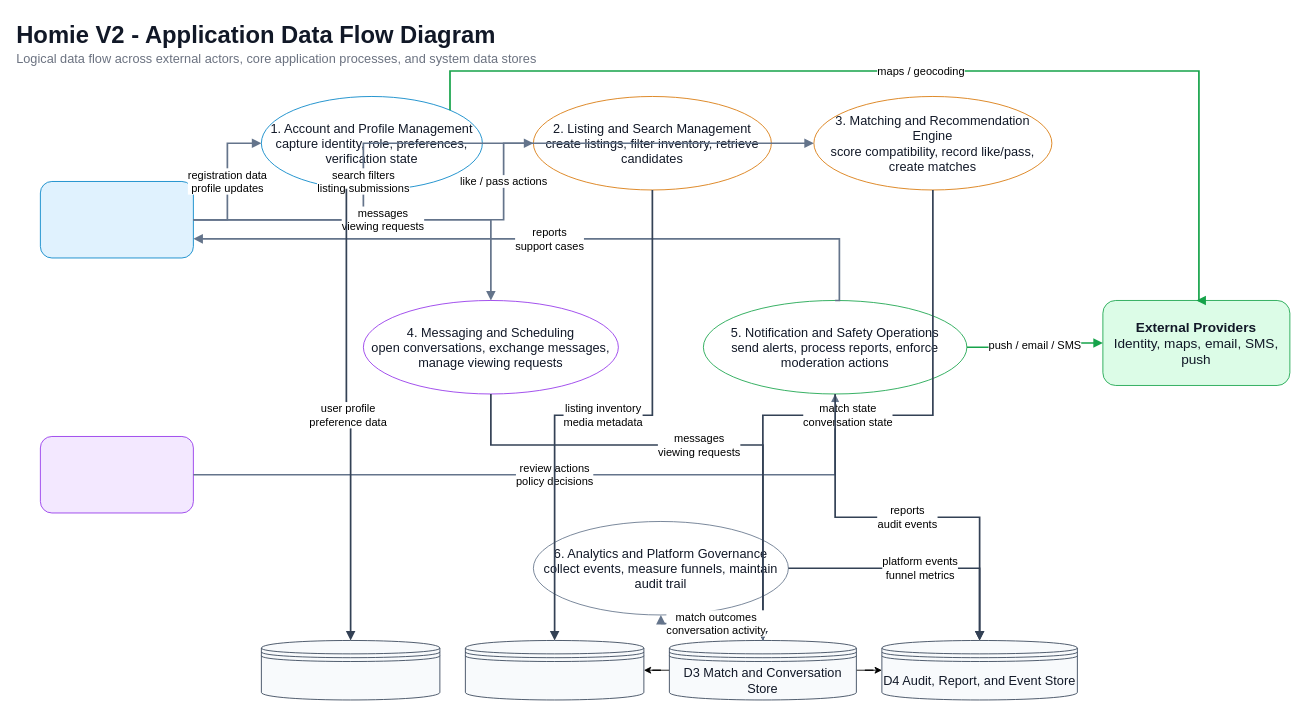
Image size: 1305x715. Some labels were removed from this diagram. The shapes that lost their labels are listed below. From the top down, each one's box as (x1, y1, x2, y2) in pixels, then its label:
(40, 181, 193, 258): Seeker / Host
(40, 436, 193, 513): Operations Team
(261, 640, 440, 700): D1 User and Preference Store
(465, 640, 644, 700): D2 Listing and Media Store
